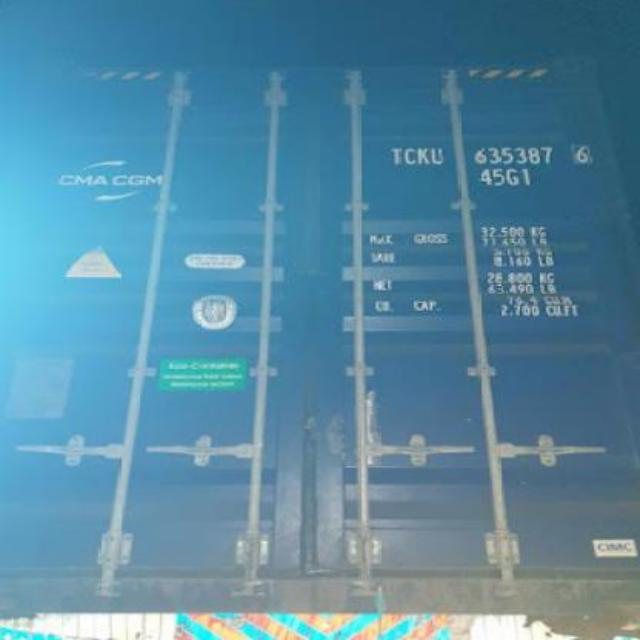3: (486, 144, 502, 166), (516, 147, 528, 165)
5: (501, 147, 514, 165)
6: (472, 145, 490, 165), (574, 144, 590, 166)
7: (538, 144, 554, 166)
8: (528, 146, 544, 166)
C: (404, 147, 418, 167)
K: (416, 146, 432, 168)
T: (391, 147, 404, 165)
U: (430, 147, 446, 167)
